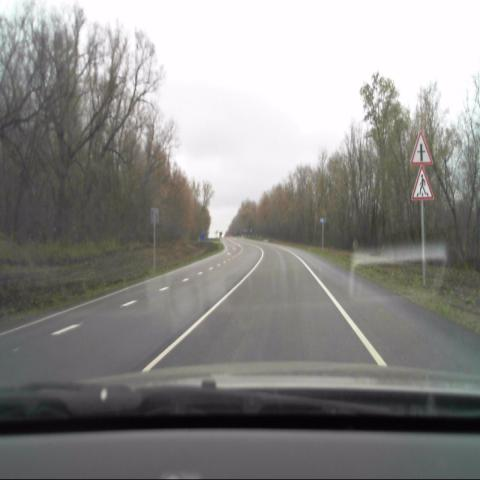1_22: (411, 166, 433, 200)
